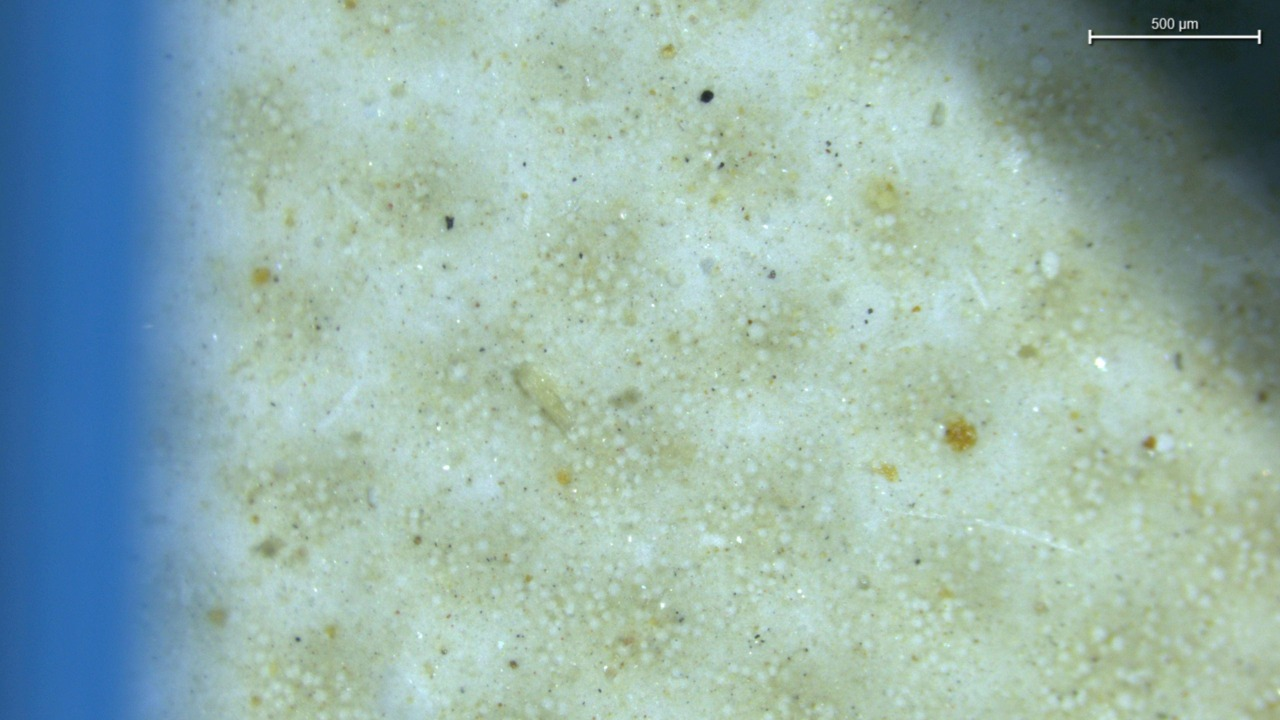microplastic_fragment: (512, 363, 573, 429)
